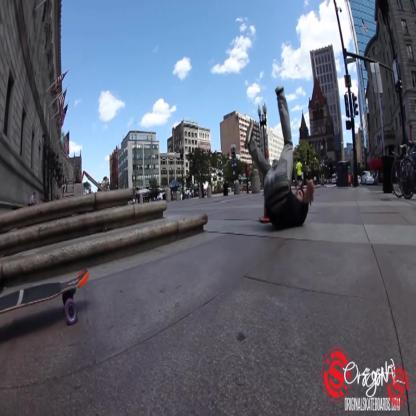Fall_Down: (244, 82, 316, 233)
